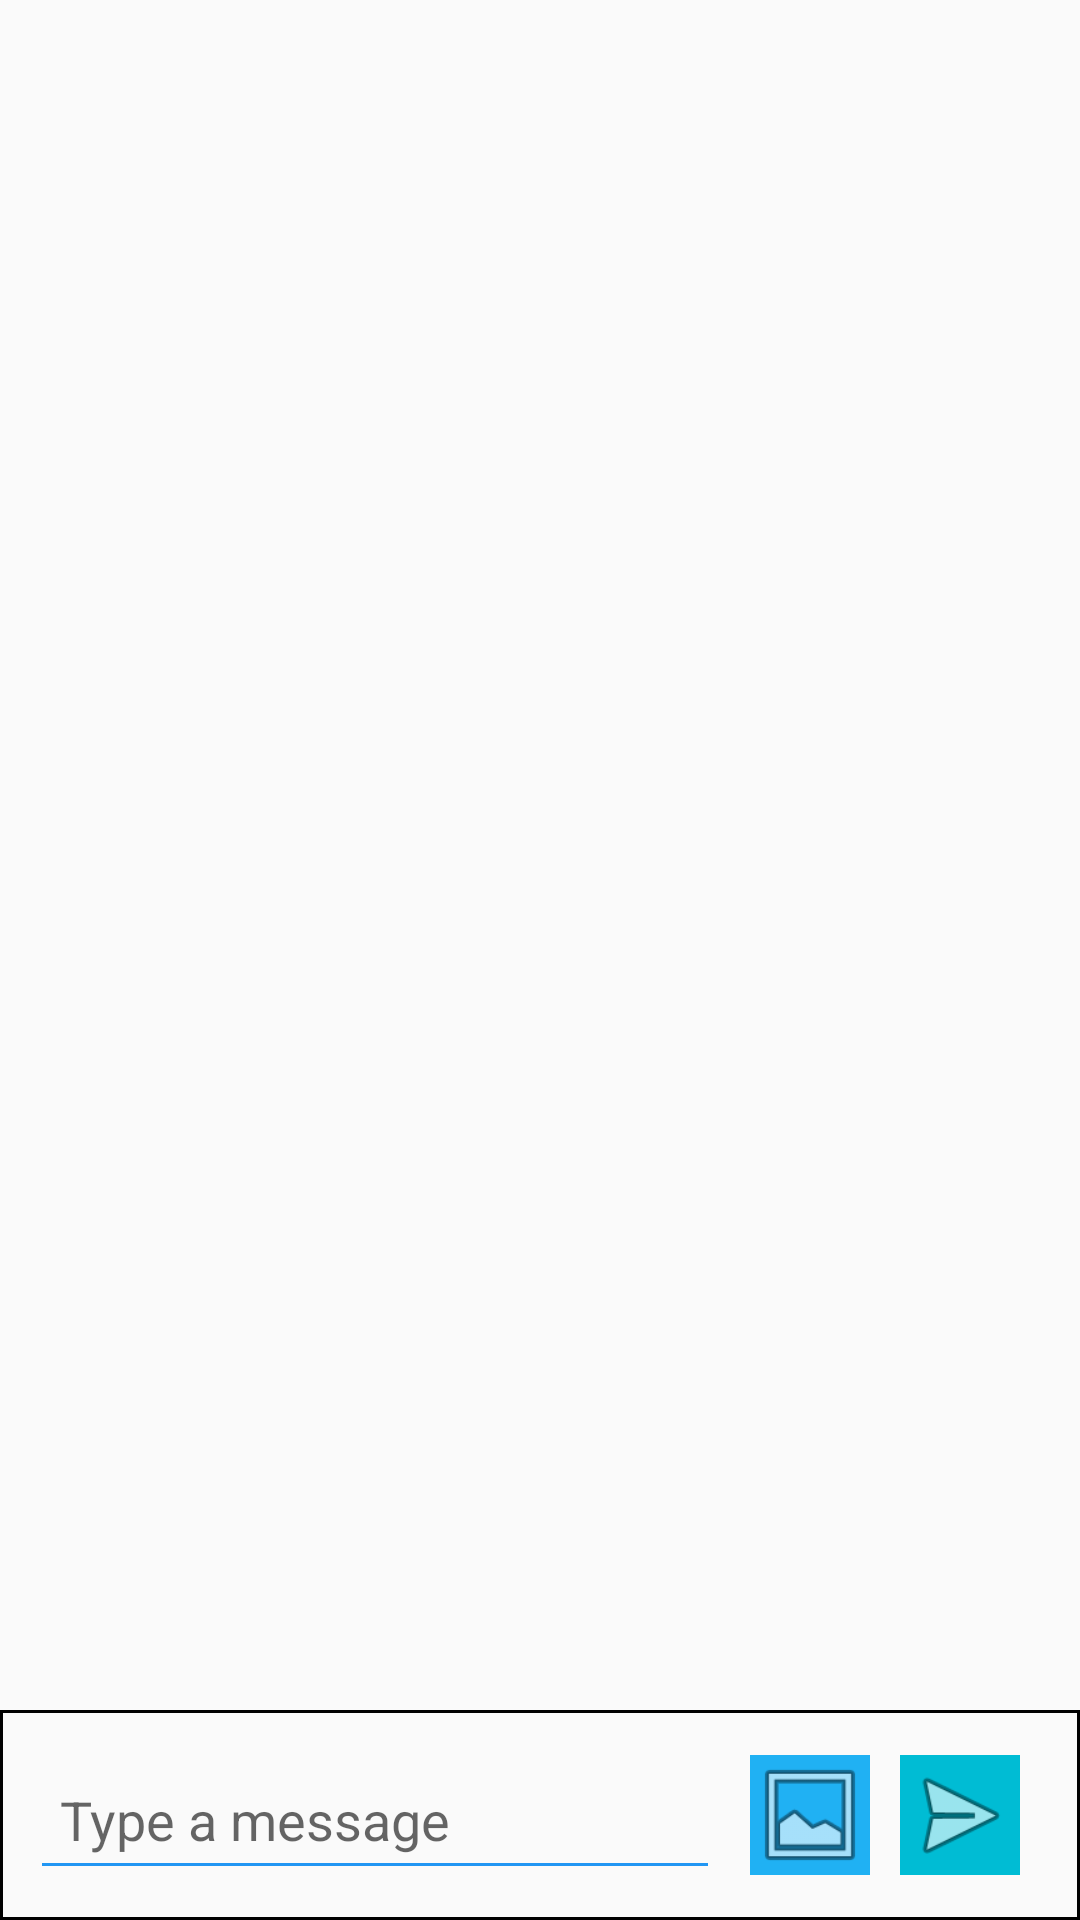

Icons on this 1080×1920 Android screen, each with the point to tap as (x=x, y=y):
gallery: (x=810, y=1815)
send: (x=960, y=1815)
